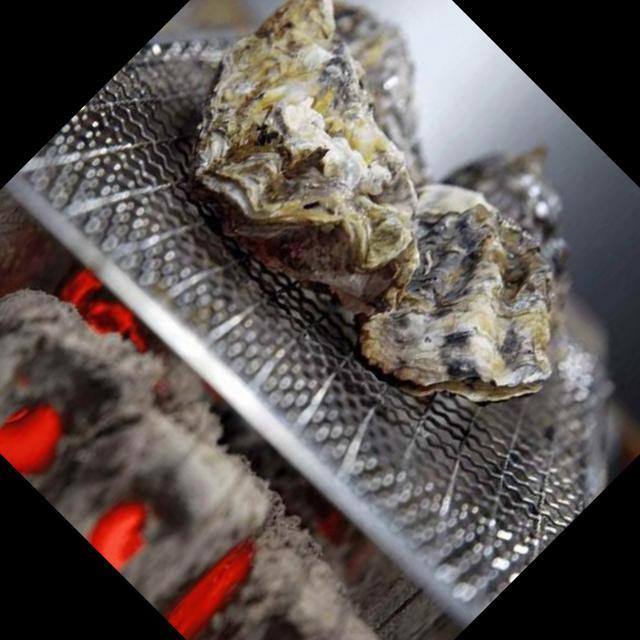Oyster-Closed: (127, 0, 527, 363), (302, 154, 618, 468)
